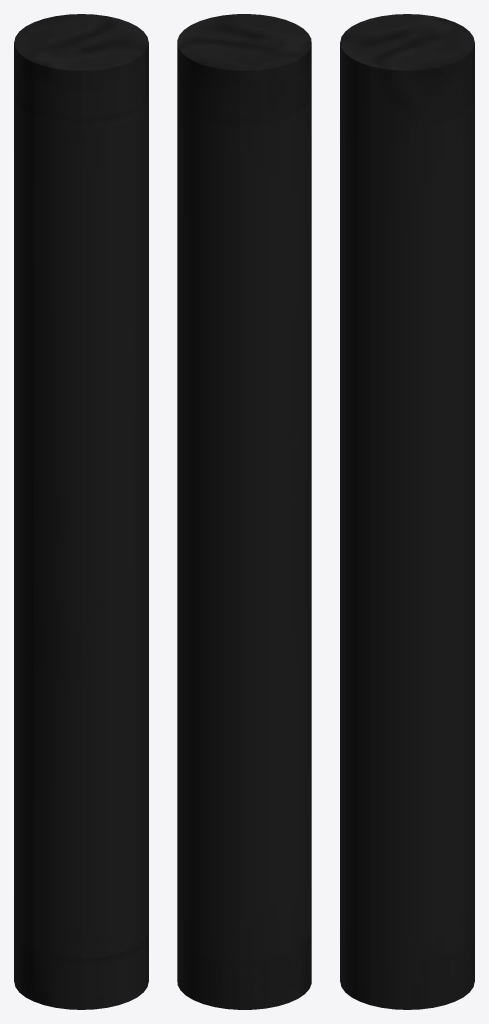
The model's file is frame__seat_cross.glb.
3 renders of one model, left to right at view 1: azimuth 90°, elevation 25°; view 2: azimuth 210°, elevation 25°; view 3: azimuth 270°, elevation 25°, orthographic.
Visible parts, largest first — view 1: world; view 2: world; view 3: world.
Boxes of the visible parts, box(x1,y1,x2,y2) form: world: box(14, 14, 148, 1009); world: box(177, 14, 311, 1009); world: box(340, 14, 474, 1009).
Bounding box in the file's own units: 0.026 × 0.2 × 0.026.
Materials: 1 (1 with a texture image).
